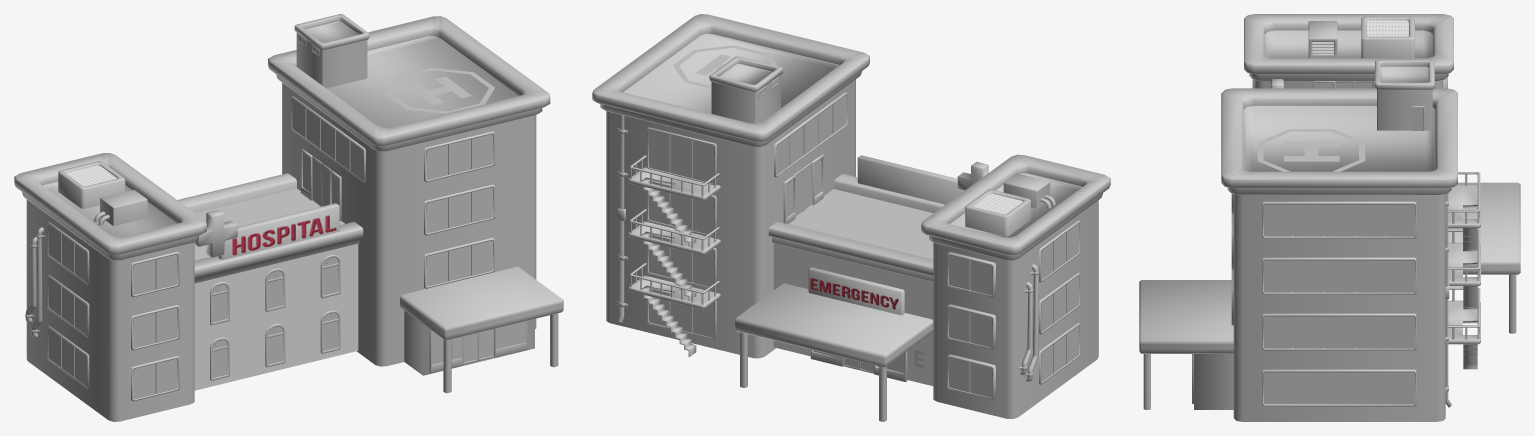
The model's file is hospital.fbx.
3 views of the same model, side by side, from view 1: azimuth 30°, elevation 25°; view 2: azimuth 150°, elevation 25°; view 3: azimuth 270°, elevation 25° (orthographic). The views are drawn at different scales.
Visible parts, largest first — view 1: hospital, hospital_bricks, hospital_texture, hospital_wire_texture; view 2: hospital, hospital_bricks, hospital_texture, hospital_wire_texture; view 3: hospital, hospital_wire_texture.
Part boxes in pixels (x1,y1,x2,y2): hospital: [14, 14, 563, 421]; hospital_bricks: [194, 244, 358, 390]; hospital_texture: [232, 215, 336, 255]; hospital_wire_texture: [66, 165, 116, 186]; hospital: [592, 14, 1110, 421]; hospital_bricks: [773, 243, 933, 385]; hospital_texture: [810, 277, 898, 309]; hospital_wire_texture: [973, 194, 1022, 214]; hospital: [1139, 14, 1520, 421]; hospital_wire_texture: [1367, 20, 1408, 36].
Size of the model in its own units: 23.62 by 14.11 by 17.12.
